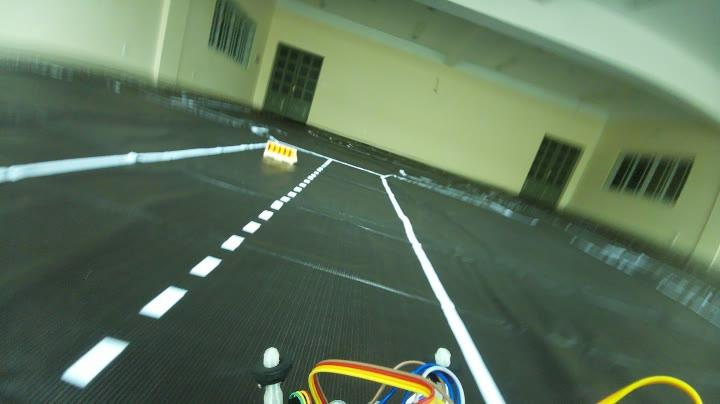roadblock: (258, 132, 302, 169)
